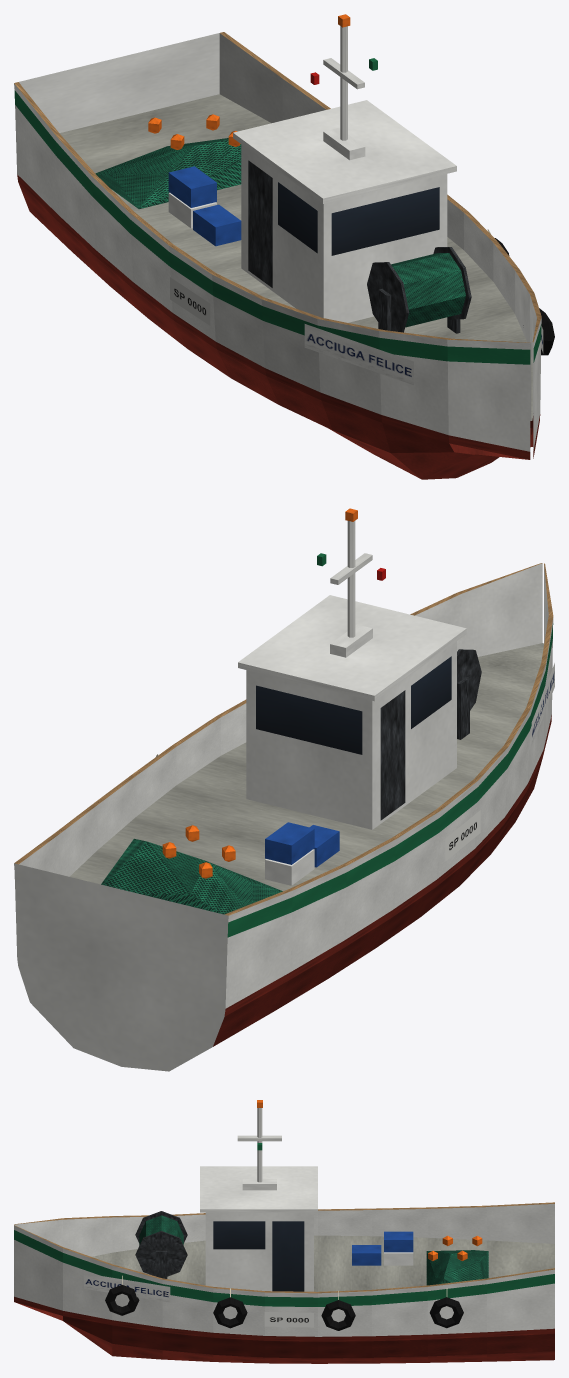
The model's file is SM_Molo_Peschereccio11_LOD1.fbx.
The picture shows the model from 3 angles, top to bottom: view 1: azimuth 30°, elevation 25°; view 2: azimuth 150°, elevation 25°; view 3: azimuth 270°, elevation 25°; orthographic projection. The views are drawn at different scales.
Parts seen in each view (by area): view 1: SM_Molo_Peschereccio11_LOD1; view 2: SM_Molo_Peschereccio11_LOD1; view 3: SM_Molo_Peschereccio11_LOD1.
Boxes of the visible parts, x1,y1,x2,y2 form: SM_Molo_Peschereccio11_LOD1: [14, 14, 554, 479]; SM_Molo_Peschereccio11_LOD1: [14, 508, 554, 1071]; SM_Molo_Peschereccio11_LOD1: [14, 1100, 554, 1363].
Size of the model in its own units: 426 by 1100 by 557.
1 material, 1 textured.
